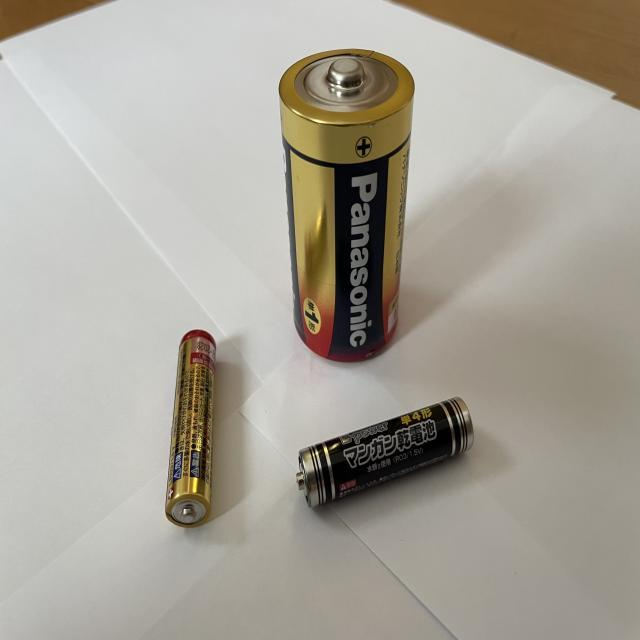hazardous waste: (277, 43, 412, 366), (294, 398, 474, 511), (164, 328, 217, 531)
